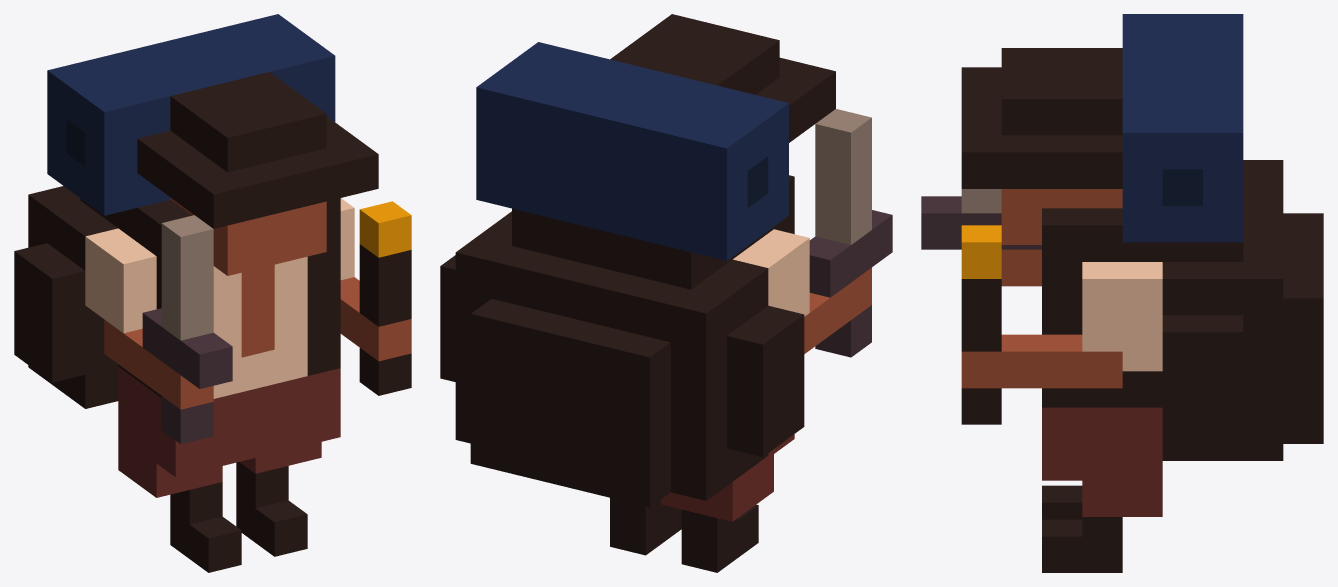
The model's file is adventurer_idle_0.obj.
3 renders of one model, left to right at view 1: azimuth 30°, elevation 25°; view 2: azimuth 150°, elevation 25°; view 3: azimuth 270°, elevation 25°, orthographic. The views are drawn at different scales.
Bounding box in the file's own units: 0.9 × 1.3 × 1.
1 material, 1 textured.
